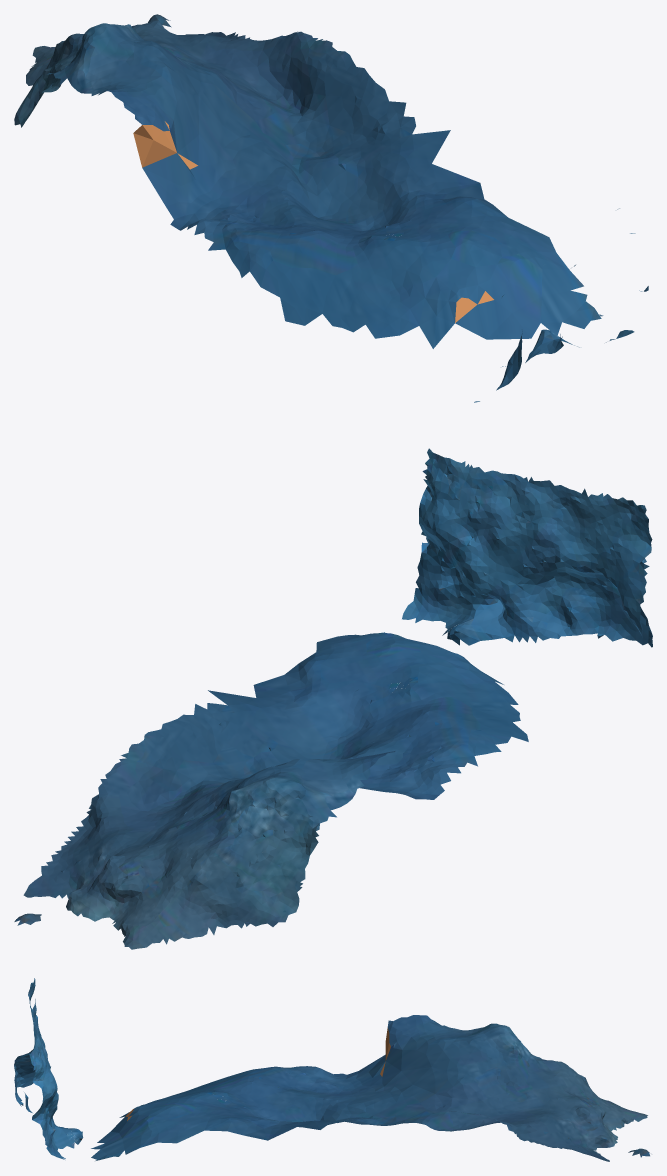
File: tile_0081.gltf
3 renders of one model, top to bottom at view 1: azimuth 30°, elevation 25°; view 2: azimuth 150°, elevation 25°; view 3: azimuth 270°, elevation 25°, orthographic. The views are drawn at different scales.
Parts seen in each view (by area): view 1: defaultobject; view 2: defaultobject; view 3: defaultobject.
Part boxes in pixels (x1,y1,x2,y2): defaultobject: (14,14,648,402); defaultobject: (14,448,652,949); defaultobject: (14,978,649,1161).
Size of the model in its own units: 0.3116 by 0.1926 by 0.9733.
Materials: 2 (2 with a texture image).
